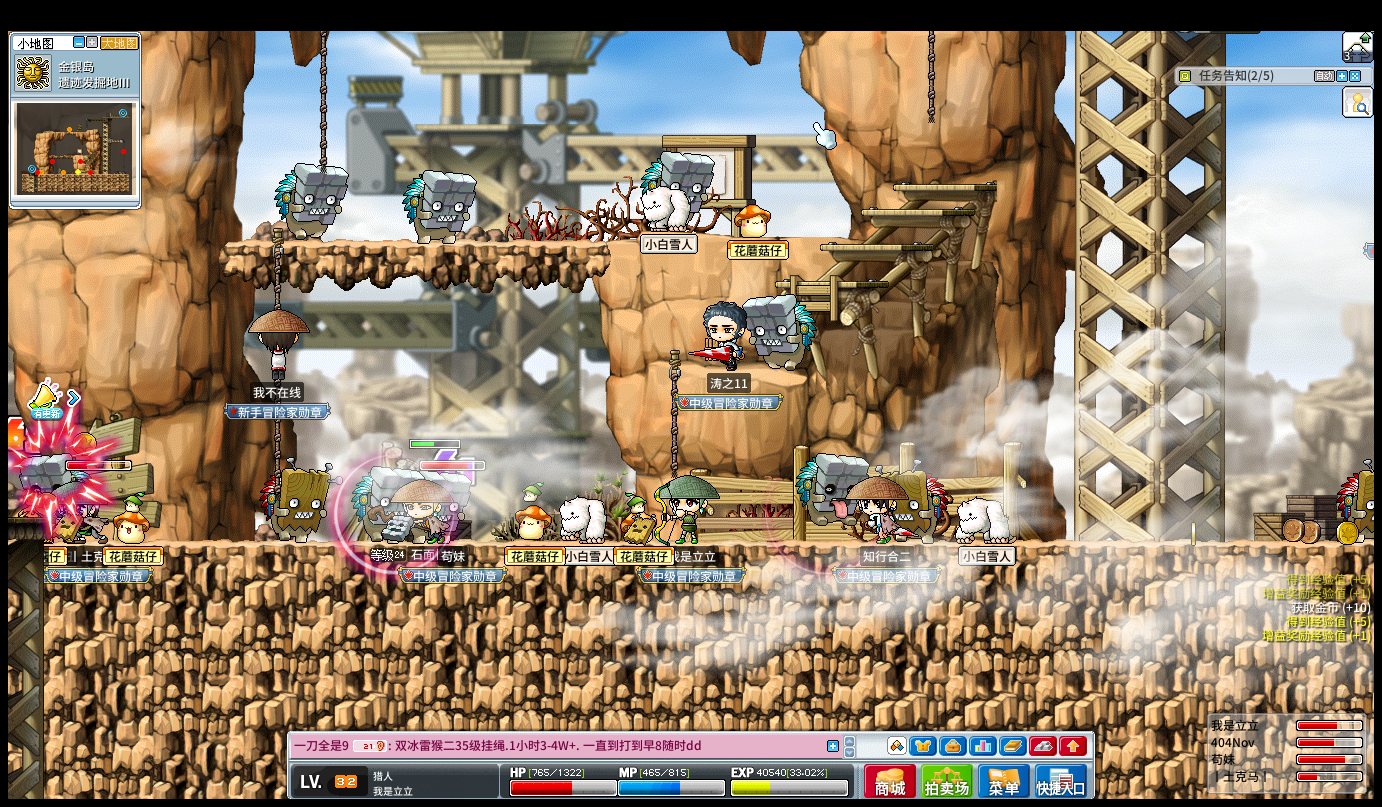floor: (44, 538, 1373, 557), (222, 238, 605, 251), (692, 366, 813, 380), (706, 232, 856, 240), (765, 278, 887, 286), (860, 207, 973, 215), (891, 184, 998, 192), (820, 243, 933, 250)
monster: (259, 460, 336, 541), (273, 164, 349, 241), (742, 294, 817, 369), (403, 169, 476, 245), (889, 463, 948, 540), (792, 454, 846, 534), (1336, 462, 1381, 543), (650, 152, 716, 193)
rope: (667, 355, 682, 475), (665, 356, 679, 476), (318, 32, 327, 170), (271, 228, 285, 308), (924, 31, 935, 122)
